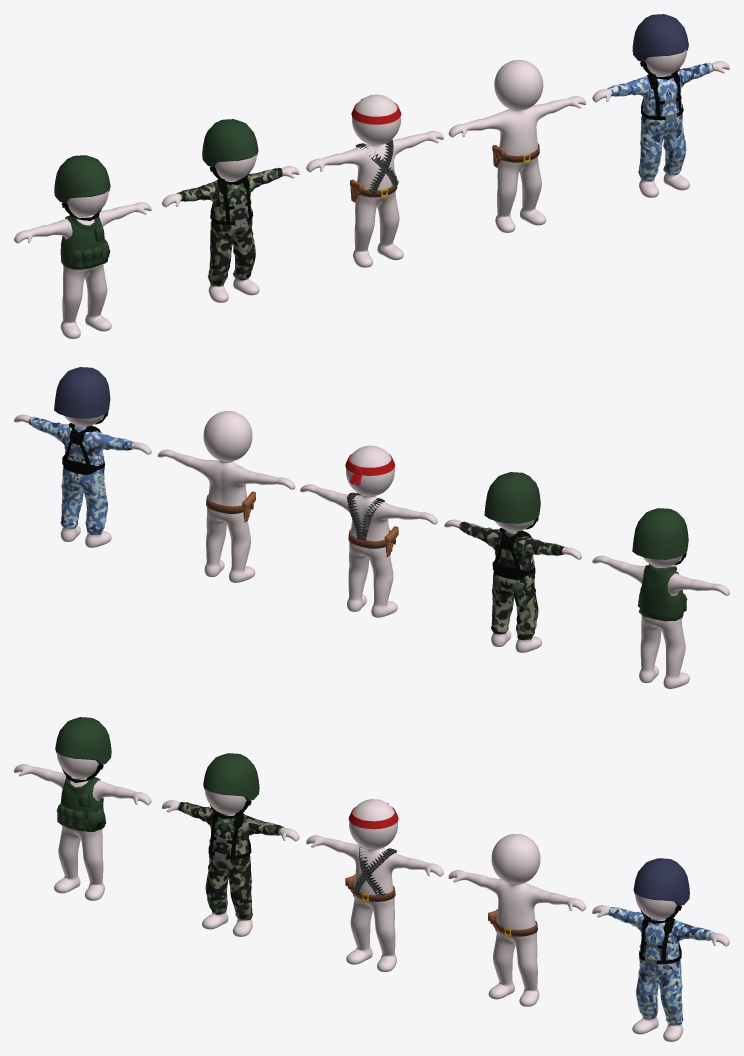
The model's file is soldier_base.glb.
The picture shows the model from 3 angles, top to bottom: view 1: azimuth 30°, elevation 25°; view 2: azimuth 150°, elevation 25°; view 3: azimuth 330°, elevation 25°; orthographic projection.
Visible parts, largest first — view 1: Body.003, Body, Body.002, como.001, como, helmet.001, helmet, helmet.002, coat, Body.001, Body.004, belt1.001 (+2 smaller); view 2: Body.003, Body, como.001, como, Body.002, helmet, helmet.002, helmet.001, coat, Body.001, Body.004, belt1.001 (+5 smaller); view 3: Body.003, Body, Body.002, como.001, como, helmet.002, helmet, helmet.001, coat, Body.004, Body.001, bullet1 (+2 smaller).
Boxes of the visible parts, x1=… form: Body.003: x1=448, y1=60, x2=586, y2=232; Body: x1=306, y1=94, x2=443, y2=267; Body.002: x1=14, y1=191, x2=151, y2=338; como.001: x1=607, y1=62, x2=713, y2=181; como: x1=177, y1=168, x2=283, y2=286; helmet.001: x1=54, y1=155, x2=110, y2=220; helmet: x1=202, y1=119, x2=258, y2=184; helmet.002: x1=632, y1=14, x2=688, y2=79; coat: x1=60, y1=213, x2=110, y2=269; Body.001: x1=162, y1=154, x2=299, y2=302; Body.004: x1=592, y1=49, x2=729, y2=197; belt1.001: x1=641, y1=72, x2=683, y2=120; Body.003: x1=157, y1=411, x2=295, y2=582; Body: x1=300, y1=445, x2=437, y2=617; como.001: x1=28, y1=416, x2=134, y2=535; como: x1=459, y1=521, x2=564, y2=640; Body.002: x1=592, y1=555, x2=729, y2=688; helmet: x1=484, y1=472, x2=540, y2=529; helmet.002: x1=54, y1=367, x2=110, y2=424; helmet.001: x1=632, y1=508, x2=688, y2=565; coat: x1=638, y1=564, x2=687, y2=621; Body.001: x1=444, y1=519, x2=581, y2=652; Body.004: x1=14, y1=414, x2=151, y2=547; belt1.001: x1=62, y1=423, x2=104, y2=474; Body.003: x1=448, y1=834, x2=586, y2=1006; Body: x1=306, y1=799, x2=443, y2=971; Body.002: x1=14, y1=752, x2=151, y2=900; como.001: x1=608, y1=907, x2=714, y2=1025; como: x1=178, y1=802, x2=284, y2=920; helmet.002: x1=633, y1=858, x2=689, y2=923; helmet: x1=203, y1=753, x2=259, y2=818; helmet.001: x1=55, y1=717, x2=111, y2=782; coat: x1=56, y1=774, x2=106, y2=831; Body.004: x1=592, y1=893, x2=729, y2=1041; Body.001: x1=162, y1=789, x2=299, y2=936; bullet1: x1=353, y1=845, x2=396, y2=898.
Bounding box in the file's own units: 8.62 × 1.97 × 0.6683.
3 materials, 2 textured.
